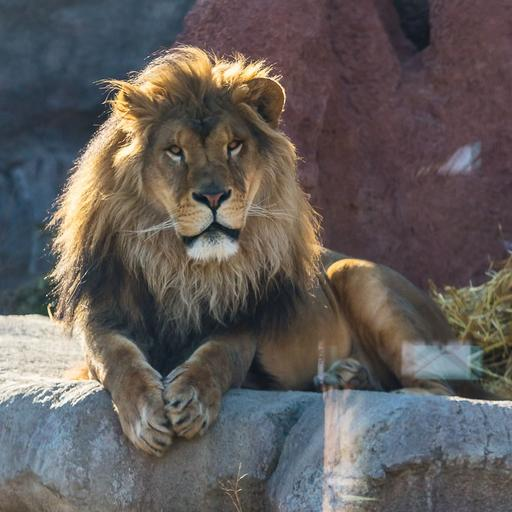Lion: (35, 31, 498, 479)
